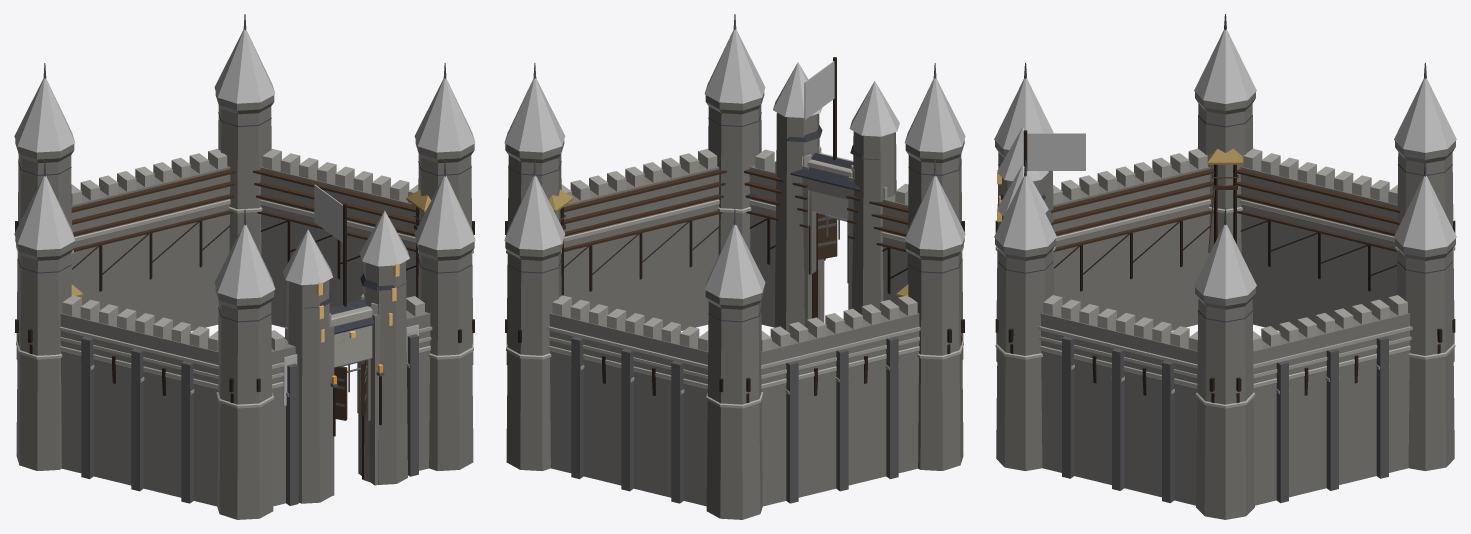
The model's file is walls.glb.
3 renders of one model, left to right at view 1: azimuth 30°, elevation 25°; view 2: azimuth 150°, elevation 25°; view 3: azimuth 270°, elevation 25°, orthographic.
Visible parts, largest first — view 1: walls@5, towers@5, tower roofs@5, gate towers@5, gate towers@3, gate roofs@5, walls@2, walls close@5!fine, walls close@4!fine, walkway@1, towers close@5!fine, walls close@3!fine (+7 smaller); view 2: walls@5, towers@5, tower roofs@5, gate towers@5, walls close@5!fine, walls@2, gate roofs@5, gate towers@3, walls close@4!fine, walkway@1, gatehouse@2, towers close@5!fine (+7 smaller); view 3: walls@5, towers@5, tower roofs@5, walls@2, walls close@5!fine, walls close@4!fine, walkway@1, gate flag@5, walls close@3!fine, towers close@5!fine, gate roofs@5, walls@3 (+3 smaller).
Boxes of the visible parts, box(x1,y1,x2,y2) form: walls@5: box(60, 149, 430, 506); towers@5: box(15, 92, 474, 519); tower roofs@5: box(14, 29, 475, 298); gate towers@5: box(286, 261, 407, 503); gate towers@3: box(328, 294, 380, 496); gate roofs@5: box(283, 210, 409, 285); walls@2: box(60, 199, 430, 504); walls close@5!fine: box(59, 169, 432, 382); walls close@4!fine: box(60, 181, 431, 389); walkway@1: box(73, 210, 415, 479); towers close@5!fine: box(15, 14, 474, 408); walls close@3!fine: box(73, 194, 415, 395); walls@5: box(549, 149, 919, 506); towers@5: box(505, 92, 964, 519); tower roofs@5: box(504, 29, 965, 298); gate towers@5: box(775, 112, 896, 332); walls close@5!fine: box(547, 169, 920, 382); walls@2: box(549, 199, 919, 490); gate roofs@5: box(773, 62, 899, 136); gate towers@3: box(802, 145, 854, 327); walls close@4!fine: box(548, 181, 919, 389); walkway@1: box(564, 210, 906, 318); gatehouse@2: box(790, 153, 860, 283); towers close@5!fine: box(505, 14, 964, 408); walls@5: box(1040, 149, 1410, 505); towers@5: box(995, 92, 1455, 519); tower roofs@5: box(994, 29, 1456, 299); walls@2: box(1040, 199, 1410, 489); walls close@5!fine: box(1038, 169, 1412, 382); walls close@4!fine: box(1039, 181, 1411, 389); walkway@1: box(1053, 210, 1397, 291); gate flag@5: box(1027, 133, 1085, 170); walls close@3!fine: box(1055, 194, 1395, 395); towers close@5!fine: box(995, 14, 1455, 408); gate roofs@5: box(997, 127, 1048, 216); walls@3: box(1071, 358, 1379, 502).
Bounding box in the file's own units: 19.1 × 11.97 × 16.85.
